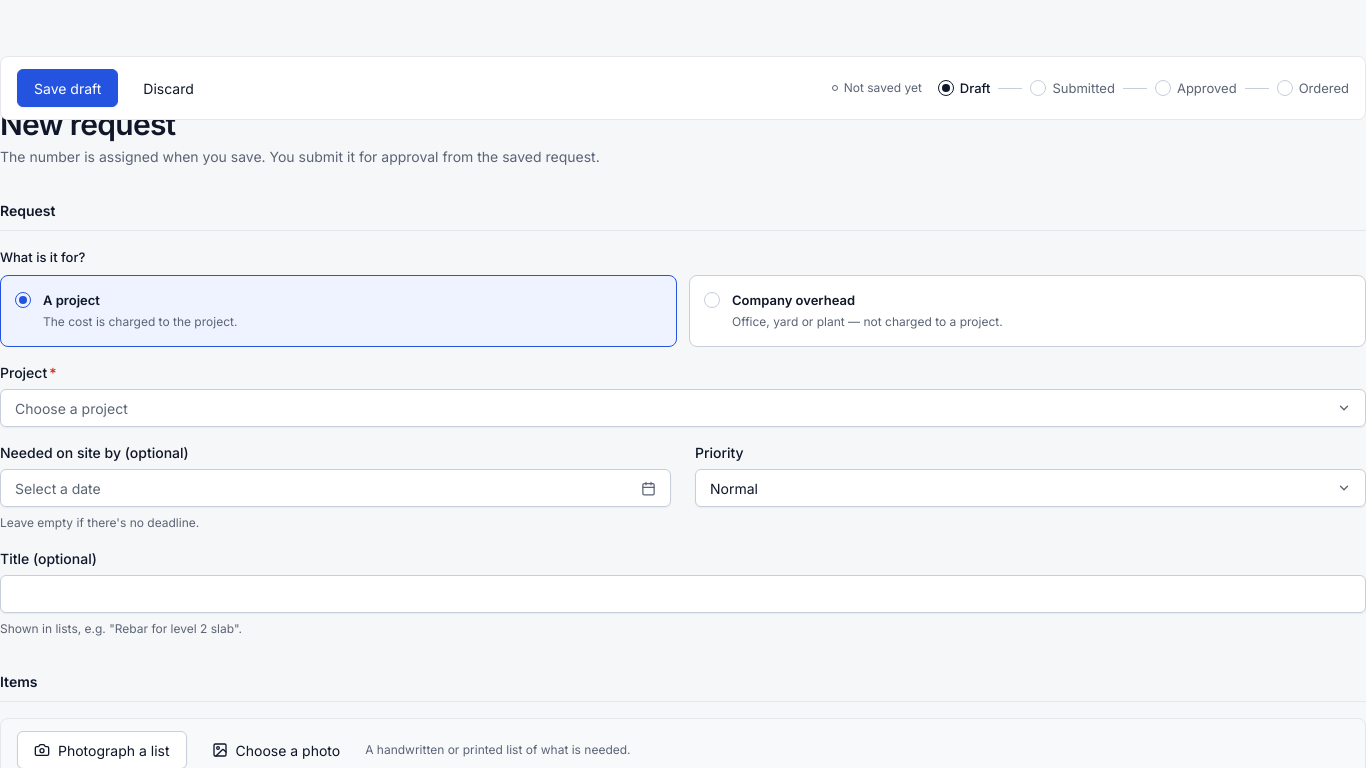
Test: MrForm › blocks save with inline errors and a counted summary
The width and height of the screenshot is (1366, 768).
What coordinates should you click on to do the following:
click the button "Save draft"
I would click on:
 (68, 88)
Its box is [17,69,118,107].
(page scrolled)
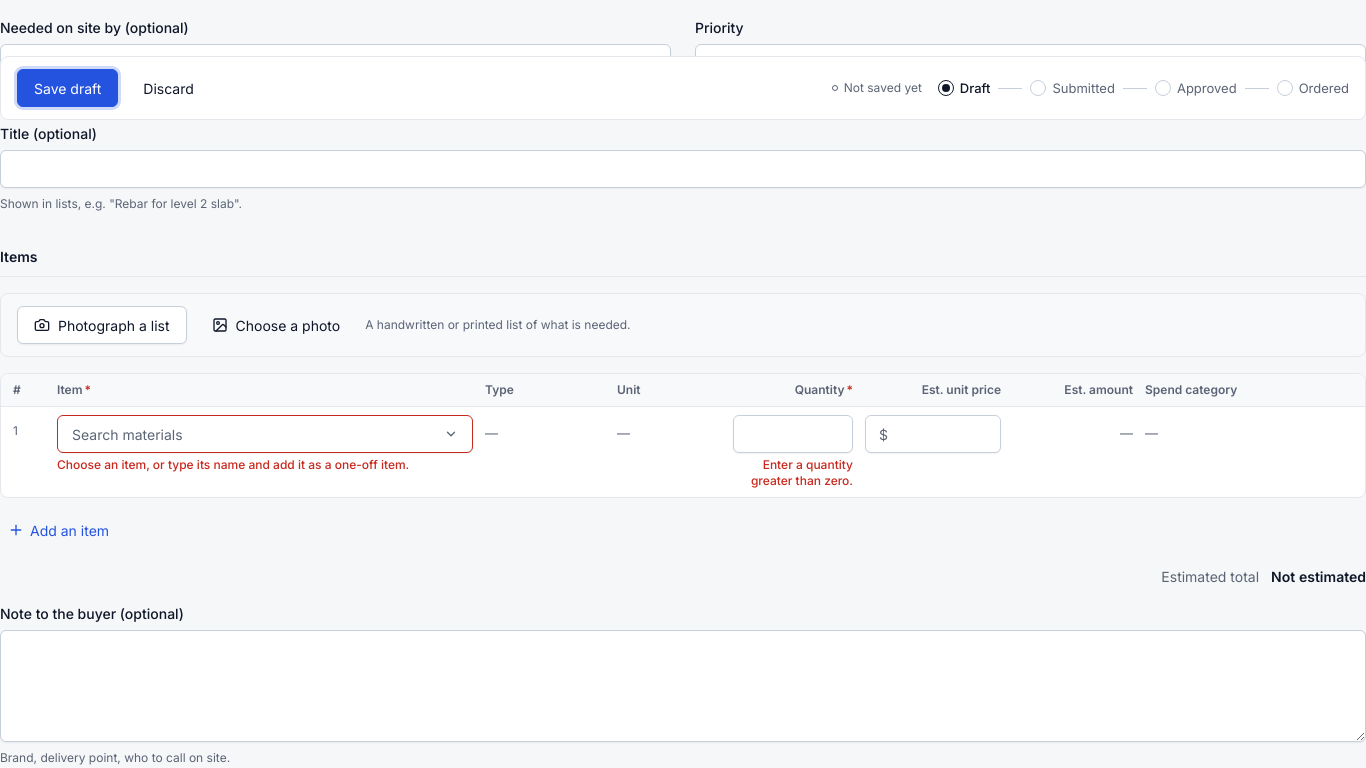
Result: the text "Choose an item, or type its name and add it as a one-off item." is shown at [57,457,409,472]
Result: the text "Enter a quantity greater than zero." is shown at [733,457,853,489]
